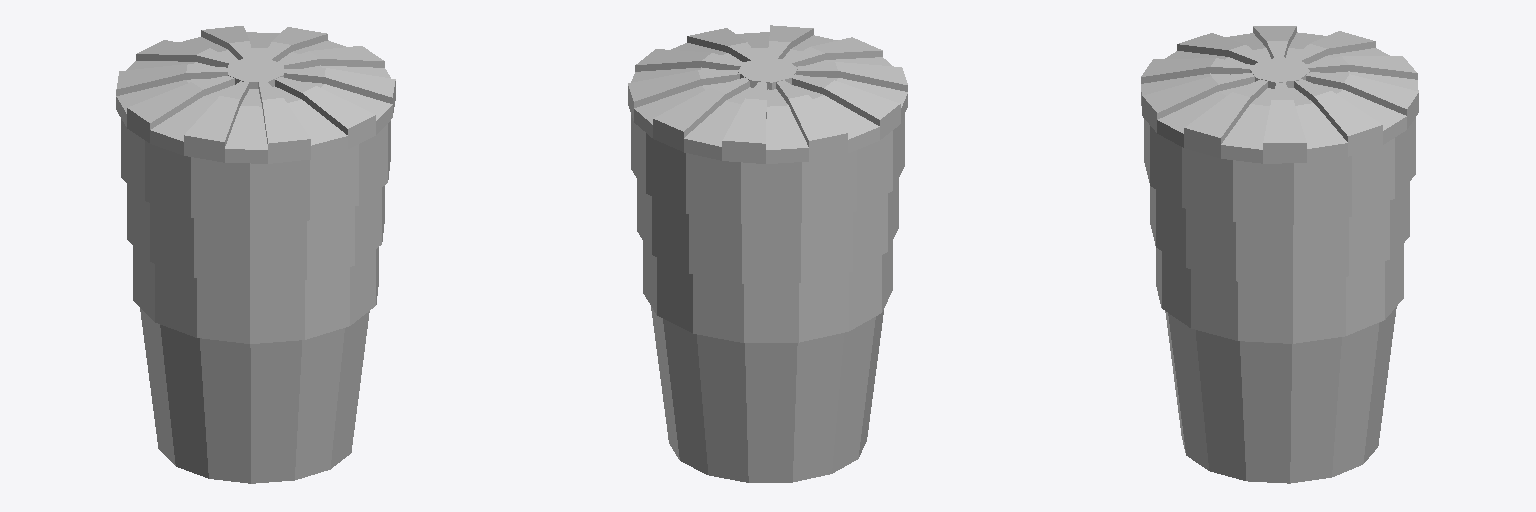
Rendered from Road1_0_8.obj.
3 renders of one model, left to right at view 1: azimuth 30°, elevation 25°; view 2: azimuth 150°, elevation 25°; view 3: azimuth 270°, elevation 25°, orthographic.
Visible parts, largest first — view 1: GSDRoadBarrel3_Rigid; view 2: GSDRoadBarrel3_Rigid; view 3: GSDRoadBarrel3_Rigid.
Boxes of the visible parts, box(x1,y1,x2,y2) form: GSDRoadBarrel3_Rigid: box(116, 26, 395, 483); GSDRoadBarrel3_Rigid: box(628, 25, 907, 482); GSDRoadBarrel3_Rigid: box(1141, 26, 1418, 483).
Bounding box in the file's own units: 0.9132 × 1.35 × 0.9133.